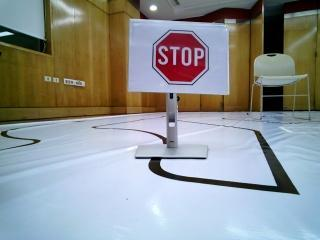stop: (135, 28, 222, 91)
